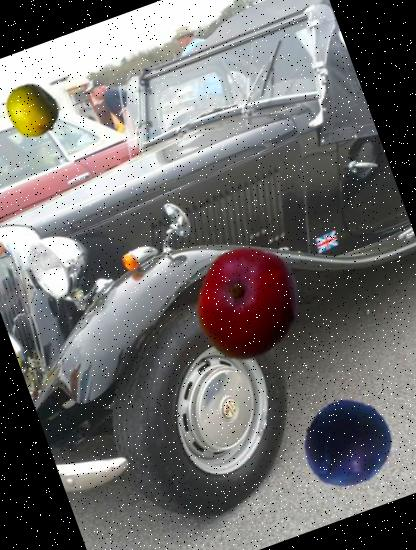Mango: (172, 229, 322, 378)
Plum: (289, 386, 406, 502)
Pomelo: (0, 73, 69, 146)
